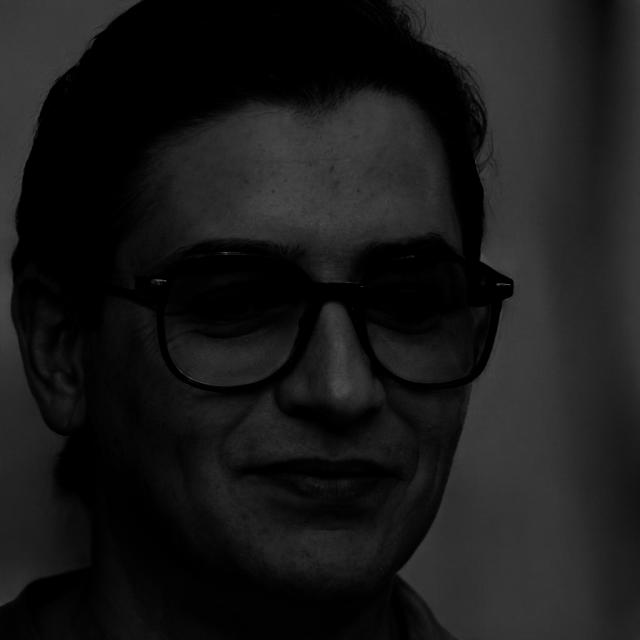lens: (165, 258, 311, 386), (364, 261, 492, 384)
